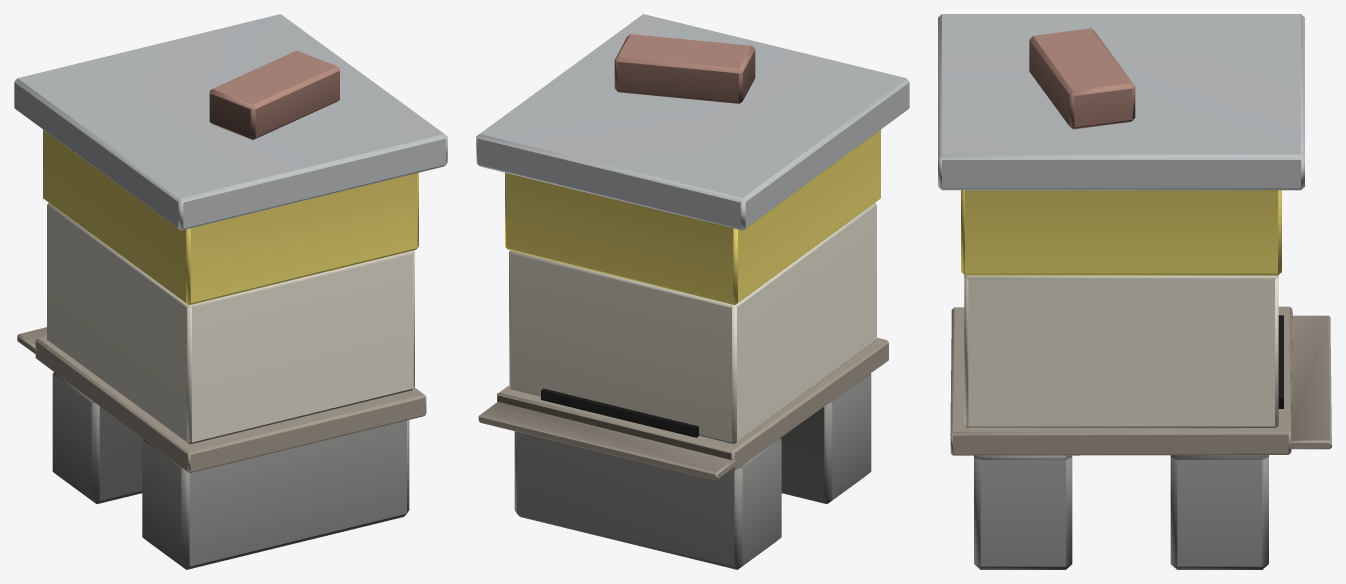
Rendered from beehive.glb.
The picture shows the model from 3 angles, left to right: view 1: azimuth 30°, elevation 25°; view 2: azimuth 150°, elevation 25°; view 3: azimuth 270°, elevation 25°; orthographic projection. The views are drawn at different scales.
Visible parts, largest first — view 1: static; view 2: static; view 3: static.
Part boxes in pixels (x1,y1,x2,y2): static: [14, 14, 447, 569]; static: [476, 14, 909, 569]; static: [938, 14, 1331, 569].
Size of the model in its own units: 0.52 by 0.785 by 0.6011.
